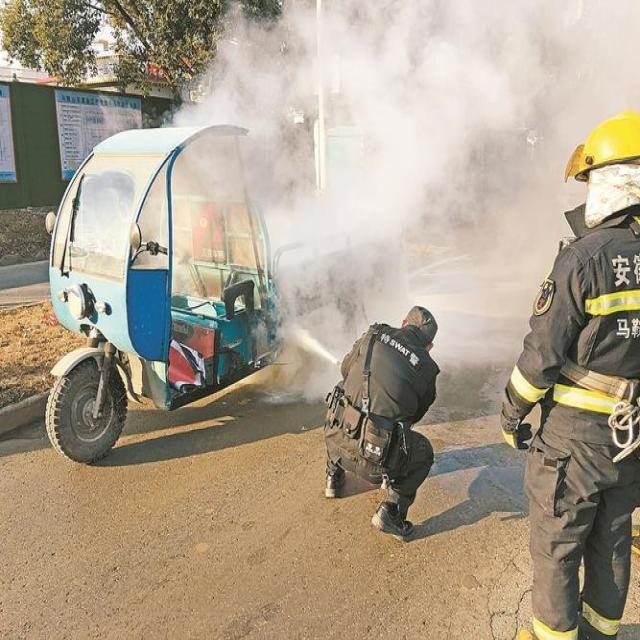Smoke: (195, 1, 554, 291)
